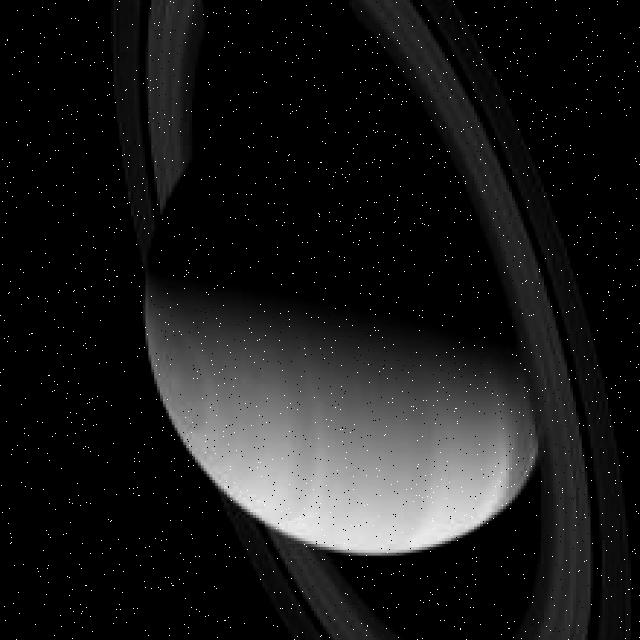Saturn: (111, 0, 637, 640)
